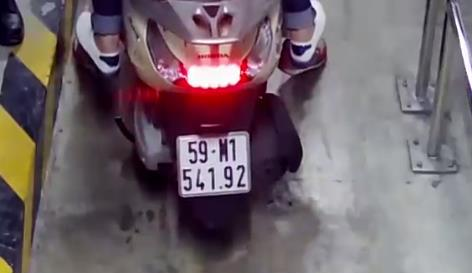lisence: (175, 131, 249, 198)
